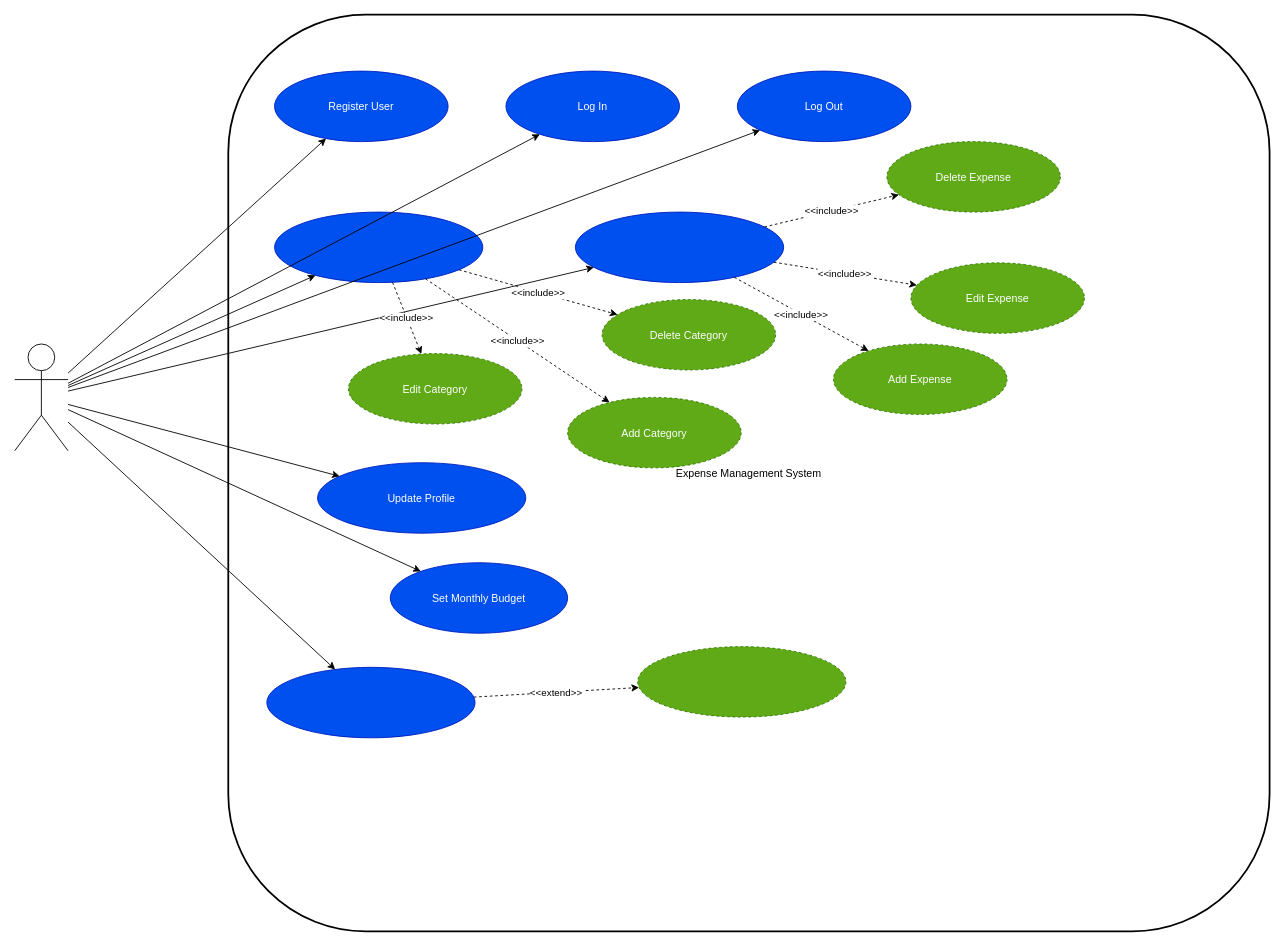
Image size: 1284x946. Some labels were removed from this diagram. Each missing label, with the centre of its shape:
"Generate Reports" belongs at point 741,681.
"Manage Categories" belongs at point 378,247.
"Manage Expenses" belongs at point 679,247.
"User" belongs at point 41,397.
"View Dashboard" belongs at point 370,702.
